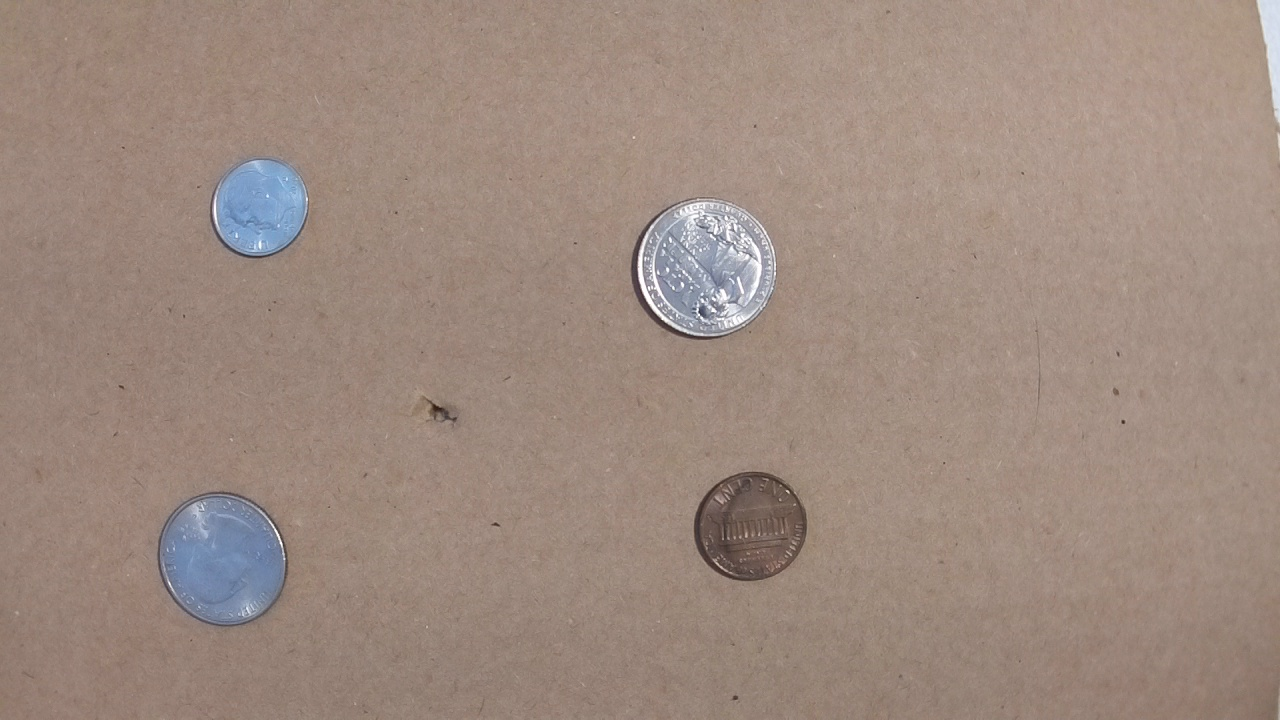dime: (206, 154, 312, 262)
penny: (689, 470, 811, 584)
quarter: (631, 192, 779, 342), (156, 488, 288, 630)
